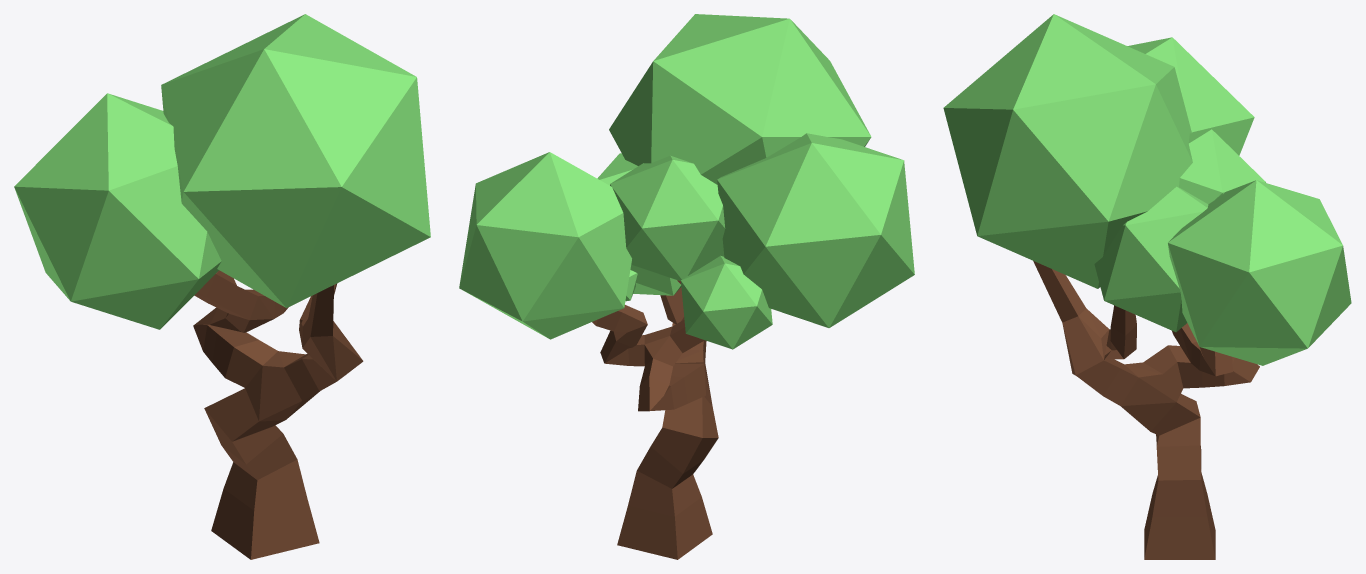
Rendered from Tree2.fbx.
The picture shows the model from 3 angles, left to right: view 1: azimuth 30°, elevation 25°; view 2: azimuth 150°, elevation 25°; view 3: azimuth 270°, elevation 25°; orthographic projection. The views are drawn at different scales.
Parts seen in each view (by area): view 1: Icosphere; view 2: Icosphere; view 3: Icosphere.
Boxes of the visible parts, <box> form: Icosphere: <box>14,14,430,559</box>; Icosphere: <box>459,14,914,559</box>; Icosphere: <box>943,14,1351,559</box>.
Bounding box in the file's own units: 865 × 1085 × 804.
